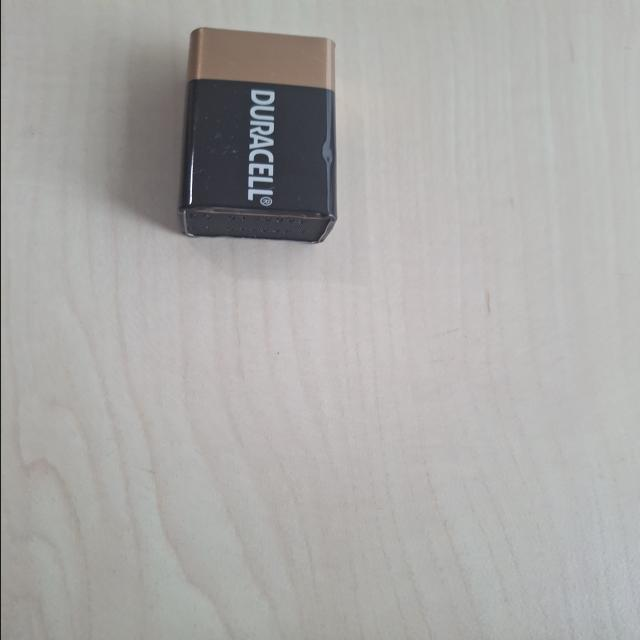9V: (312, 132, 602, 255)
